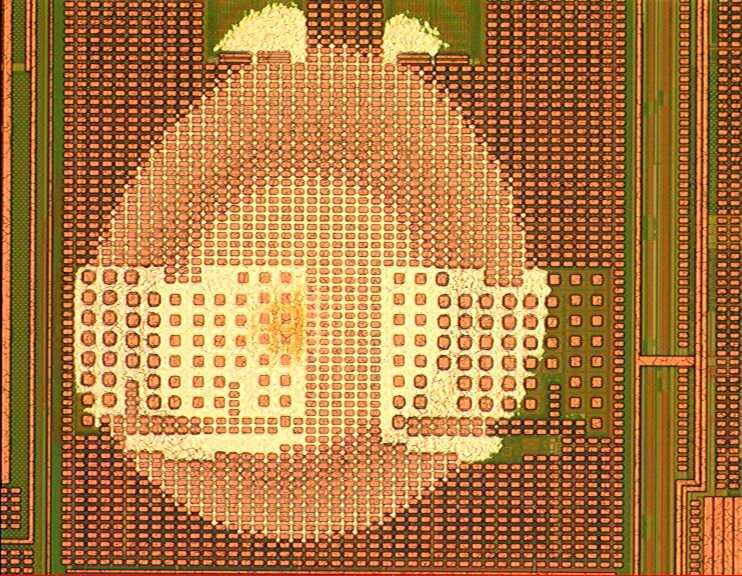BLOCK ETCH: (69, 5, 559, 549)
